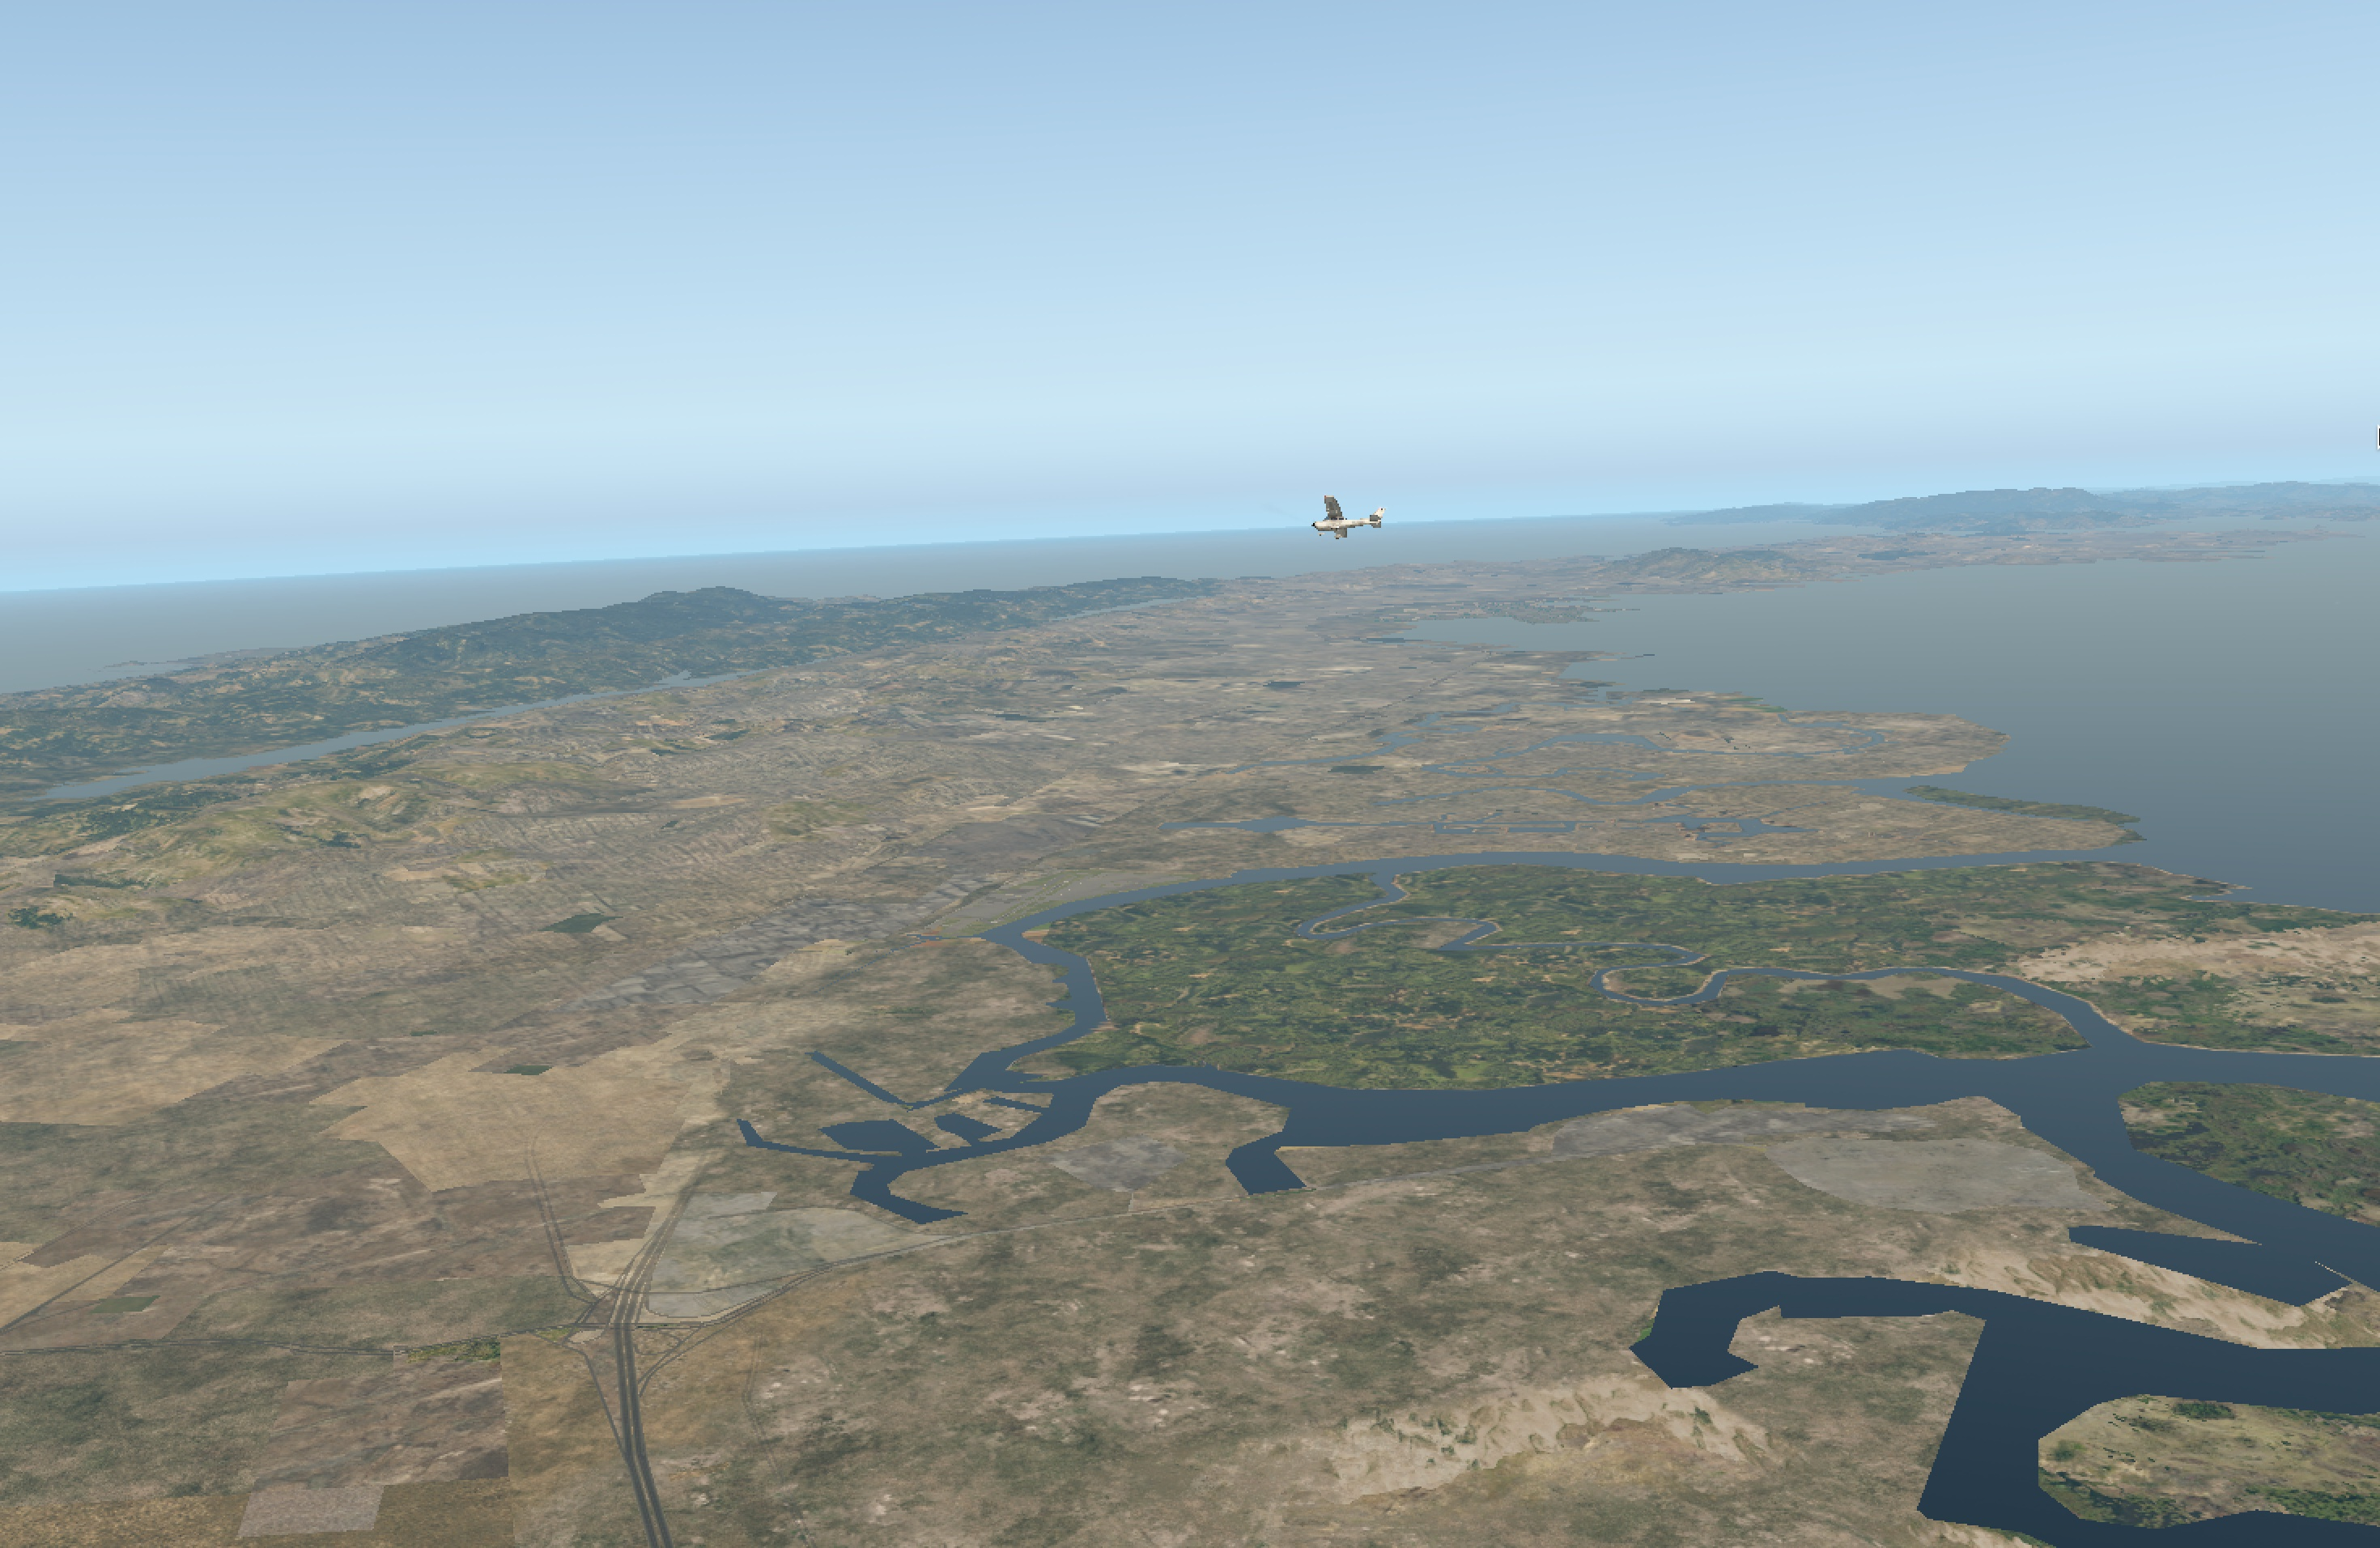aircraft: (1298, 510, 1369, 536)
